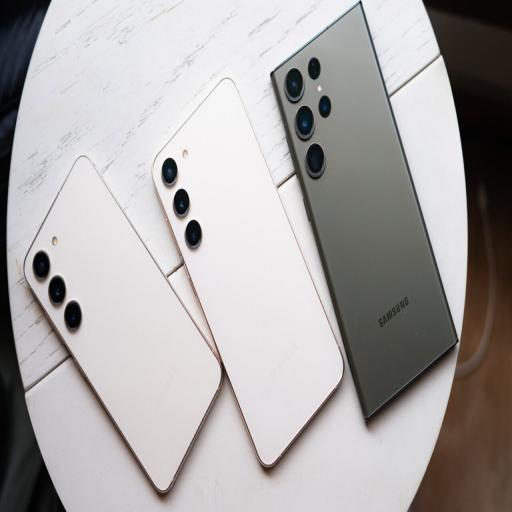phone: (269, 0, 463, 430)
